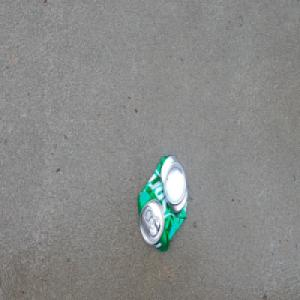SodaCan: (136, 153, 189, 254)
